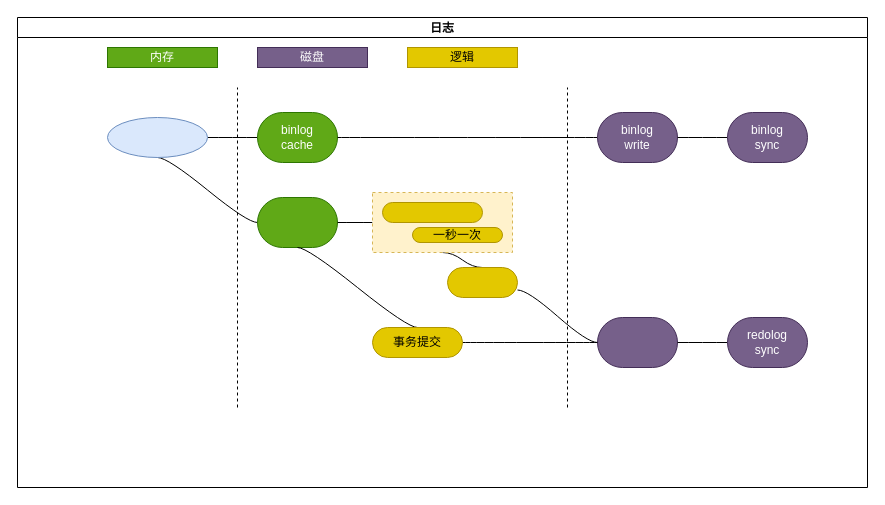
The diagram is 885 pixels wide and 505 high, and some of its shapes have lost their labels. The centre of each missing label's shape, as x and y in pixels:
"buffer超半" belongs at (x=432, y=212).
"redolog buffer" belongs at (x=297, y=222).
"redolog write" belongs at (x=637, y=342).
"事务" belongs at (x=157, y=137).
"线程" belongs at (x=482, y=282).
